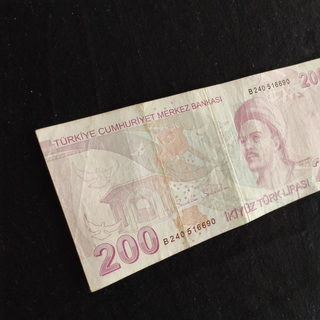200TLBack: (35, 56, 320, 293)
